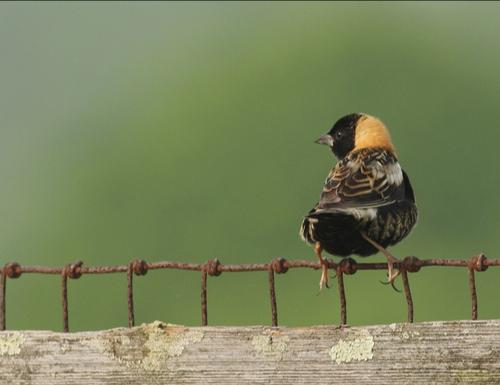bird: (293, 106, 425, 297)
